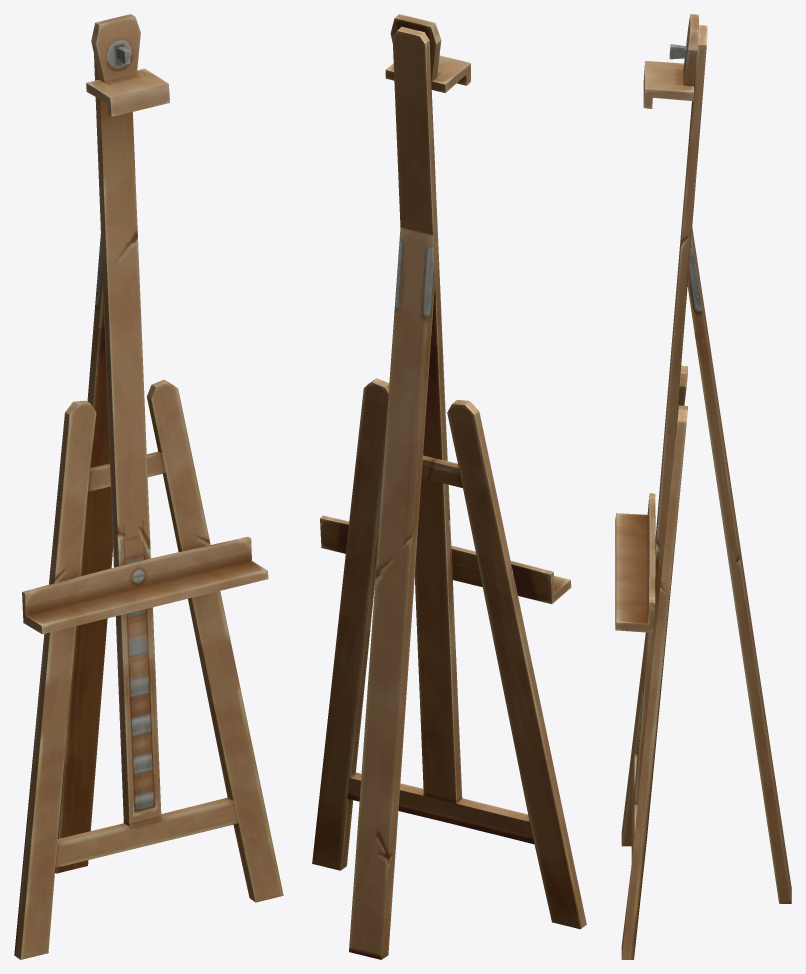
File: jj_ty_huajia01.FBX
3 views of the same model, side by side, from view 1: azimuth 30°, elevation 25°; view 2: azimuth 150°, elevation 25°; view 3: azimuth 270°, elevation 25° (orthographic). The views are drawn at different scales.
Visible parts, largest first — view 1: jj_ty_huajia01; view 2: jj_ty_huajia01; view 3: jj_ty_huajia01.
Part boxes in pixels (x1=…): jj_ty_huajia01: x1=14, y1=14, x2=283, y2=959; jj_ty_huajia01: x1=312, y1=14, x2=586, y2=959; jj_ty_huajia01: x1=615, y1=14, x2=791, y2=959.
Size of the model in its own units: 53.4 by 171 by 31.31.
Materials: 1 (1 with a texture image).
